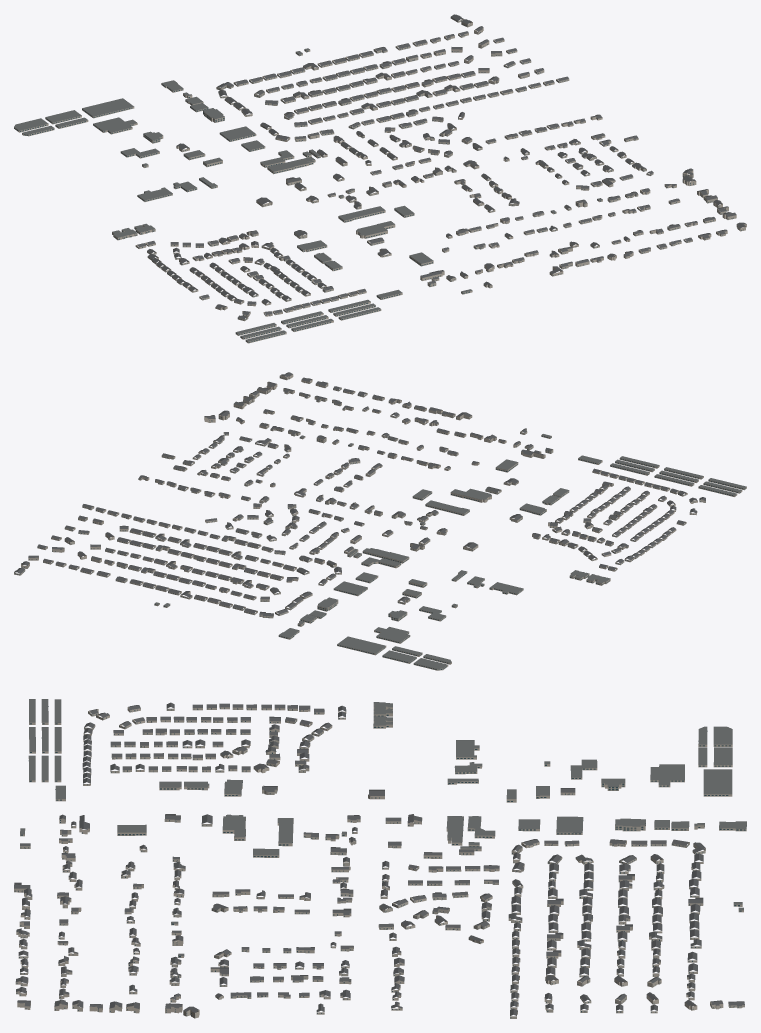
3 views of the same model, one above another, from view 1: azimuth 30°, elevation 25°; view 2: azimuth 150°, elevation 25°; view 3: azimuth 270°, elevation 25° (orthographic). The views are drawn at different scales.
Parts seen in each view (by area): view 1: Buildings (-1, 3) Roof shingles, Buildings (-1, 3) Masonry brick, Buildings (-1, 3) Roof membrane, Buildings (-1, 3) House siding, Buildings (-1, 3) Architectural tinted glass; view 2: Buildings (-1, 3) Roof shingles, Buildings (-1, 3) Masonry brick, Buildings (-1, 3) Roof membrane, Buildings (-1, 3) House siding, Buildings (-1, 3) Architectural tinted glass; view 3: Buildings (-1, 3) Roof shingles, Buildings (-1, 3) Masonry brick, Buildings (-1, 3) Roof membrane, Buildings (-1, 3) House siding, Buildings (-1, 3) Architectural tinted glass, Buildings (-1, 3) Window trim.
Part boxes in pixels (<box>): Buildings (-1, 3) Roof shingles: <box>137,14,746,319</box>; Buildings (-1, 3) Masonry brick: <box>14,21,746,343</box>; Buildings (-1, 3) Roof membrane: <box>14,48,602,341</box>; Buildings (-1, 3) House siding: <box>147,17,728,321</box>; Buildings (-1, 3) Architectural tinted glass: <box>14,17,743,342</box>; Buildings (-1, 3) Roof shingles: <box>14,372,705,616</box>; Buildings (-1, 3) Masonry brick: <box>21,374,746,670</box>; Buildings (-1, 3) Roof membrane: <box>154,434,746,668</box>; Buildings (-1, 3) House siding: <box>14,387,705,618</box>; Buildings (-1, 3) Architectural tinted glass: <box>15,377,745,670</box>; Buildings (-1, 3) Roof shingles: <box>14,702,744,1015</box>; Buildings (-1, 3) Masonry brick: <box>14,704,746,1018</box>; Buildings (-1, 3) Roof membrane: <box>20,699,746,955</box>; Buildings (-1, 3) House siding: <box>18,706,744,1018</box>; Buildings (-1, 3) Architectural tinted glass: <box>14,706,746,1017</box>; Buildings (-1, 3) Window trim: <box>16,708,733,1017</box>.
Size of the model in its own units: 1028 by 16.18 by 1016.
